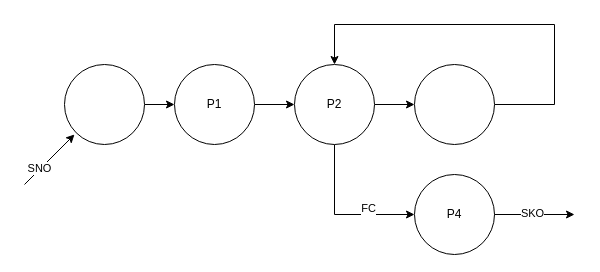
The diagram is 600 pixels wide and 272 high, and some of its shapes have lost their labels. The shapes that lost their labels are listed below. From the top down, each one's box as (x1, y1, x2, y2) in pixels, then its label:
(64, 64, 144, 144): Р0
(414, 64, 494, 144): Р3
